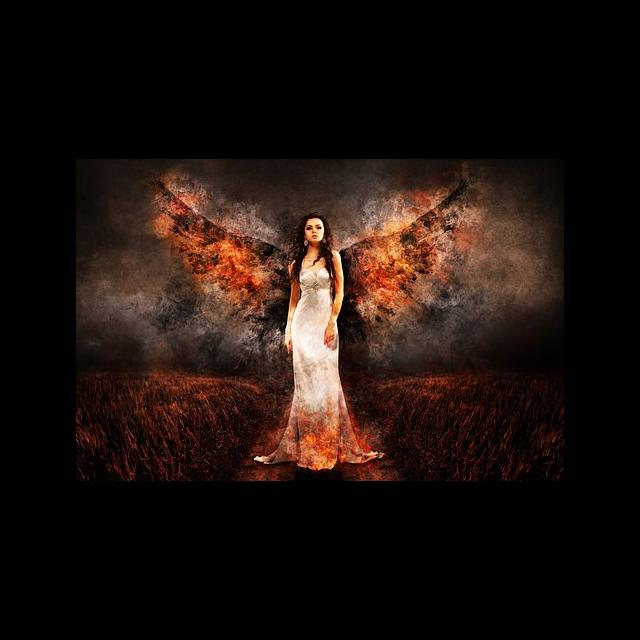female: (270, 187, 354, 258)
